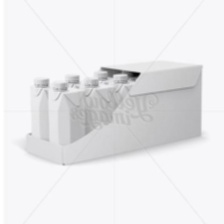carton: (47, 79, 85, 148), (83, 76, 116, 137), (29, 76, 49, 145), (110, 71, 140, 109)
